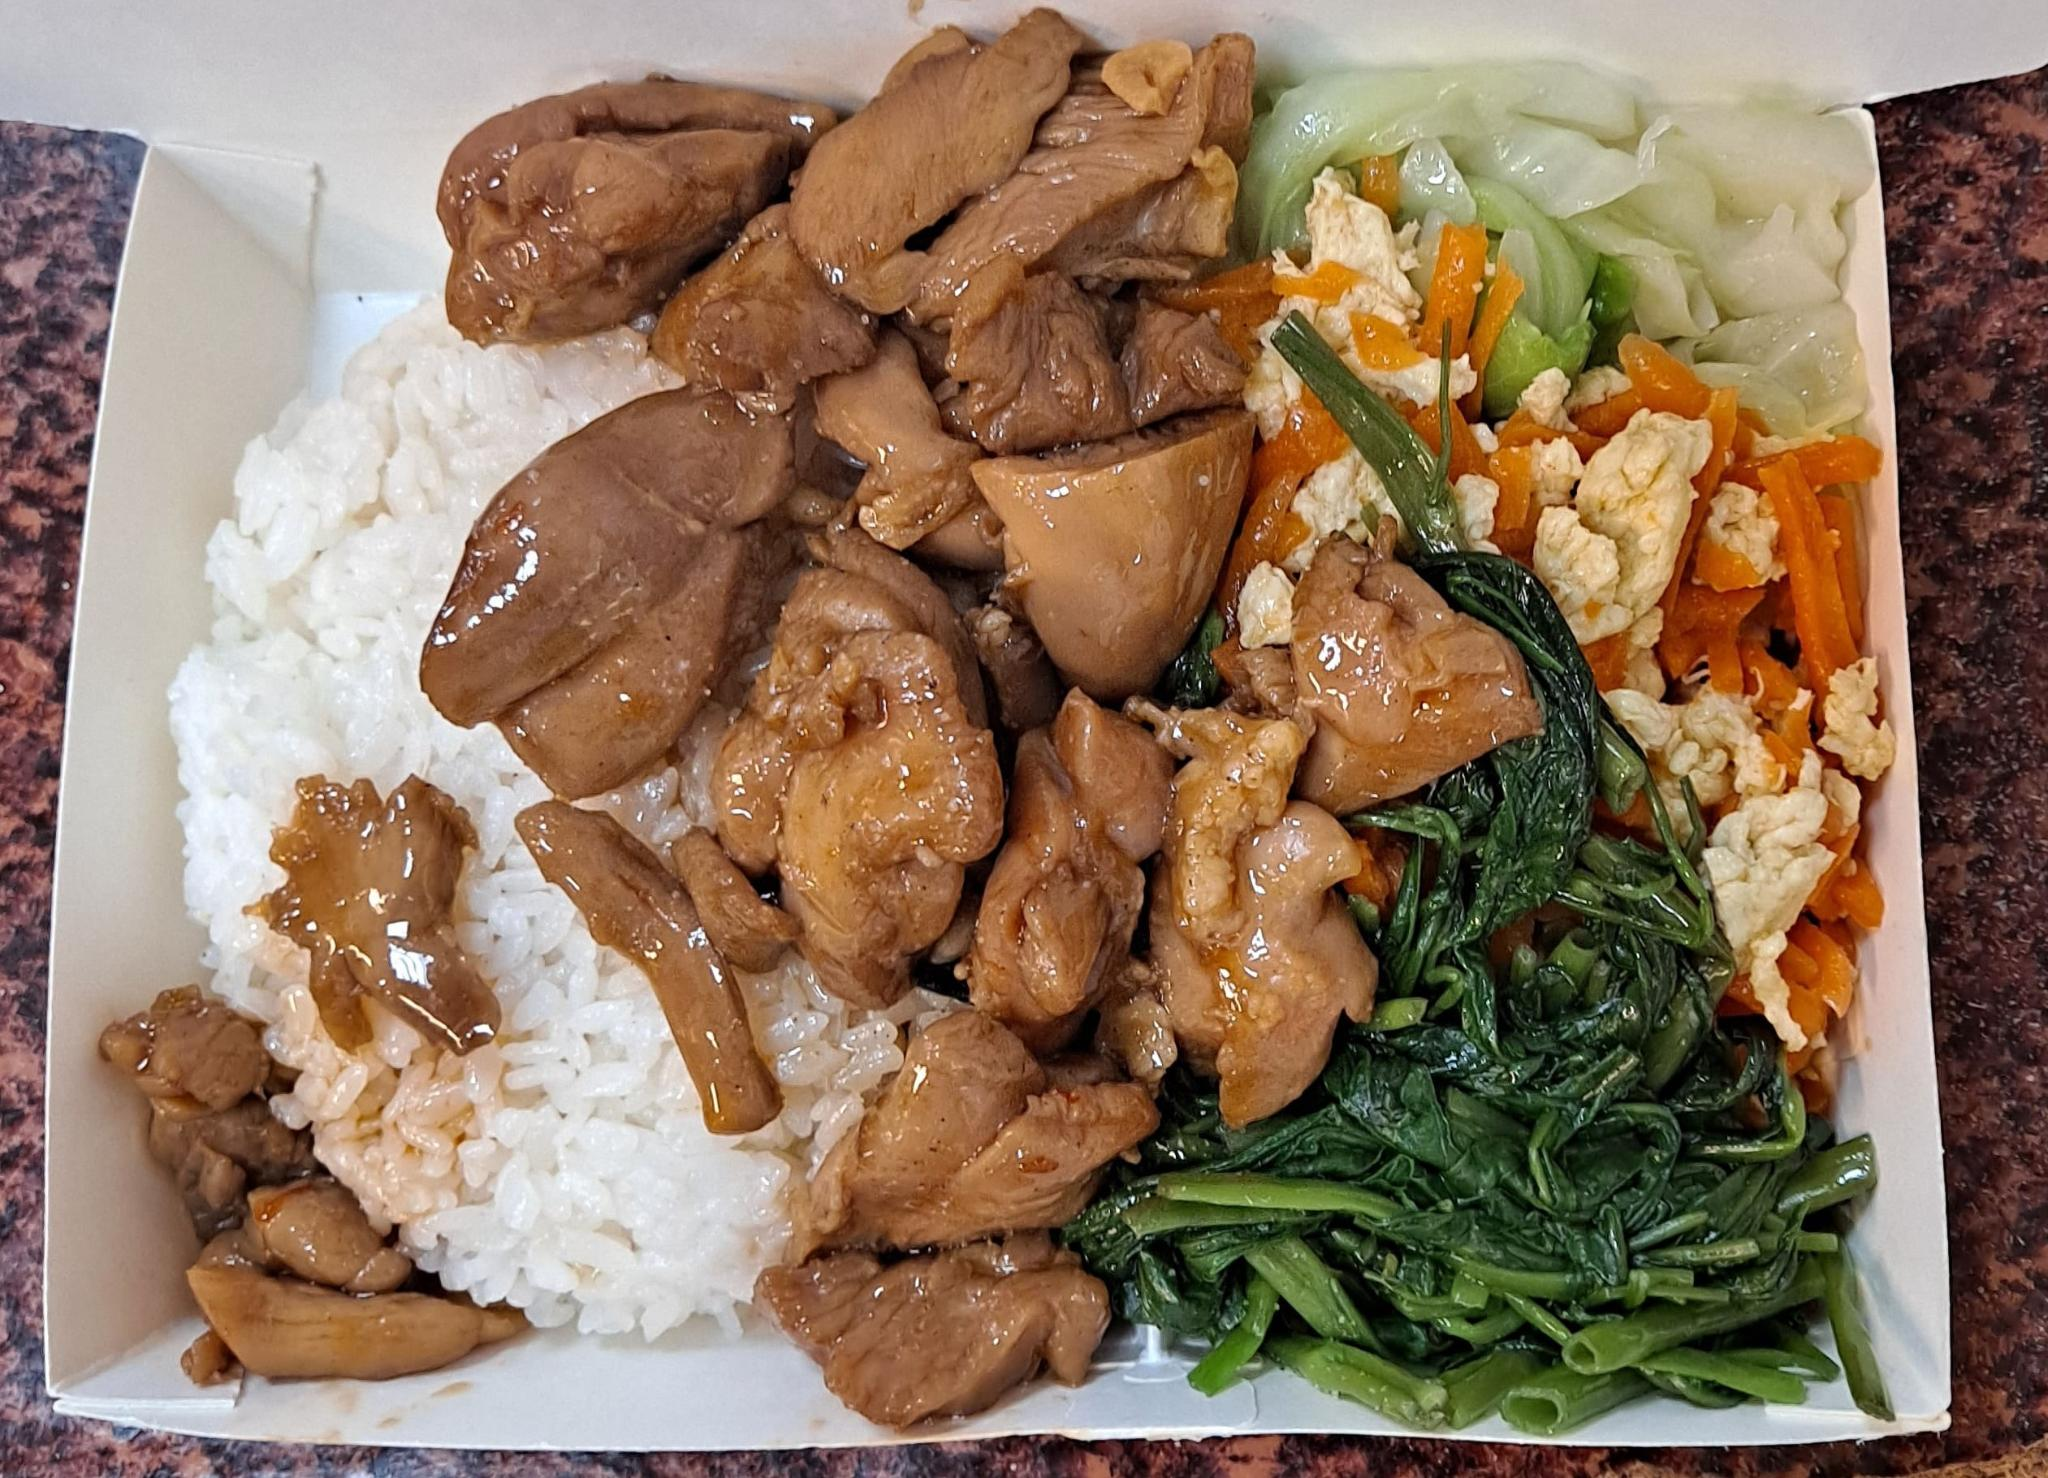big grilled chicken leg: (25, 44, 1984, 1478)
big herbal chicken leg: (188, 310, 908, 1357)
braised fish fillet: (1170, 566, 1857, 1405), (1250, 172, 1891, 1050), (1264, 65, 1864, 418)
braised pork: (114, 17, 1374, 1440)
